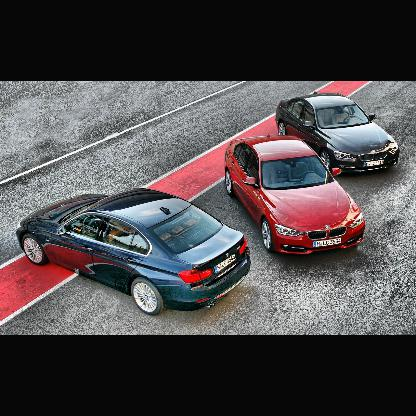BMW 3 Series Sedan 2012: (17, 188, 253, 317)
